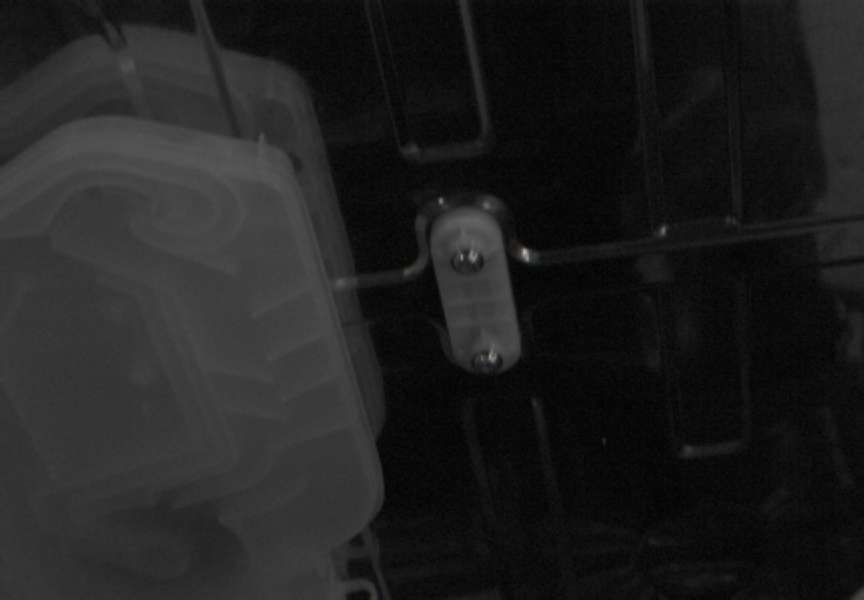screw: (451, 248, 484, 275), (472, 349, 503, 375)
